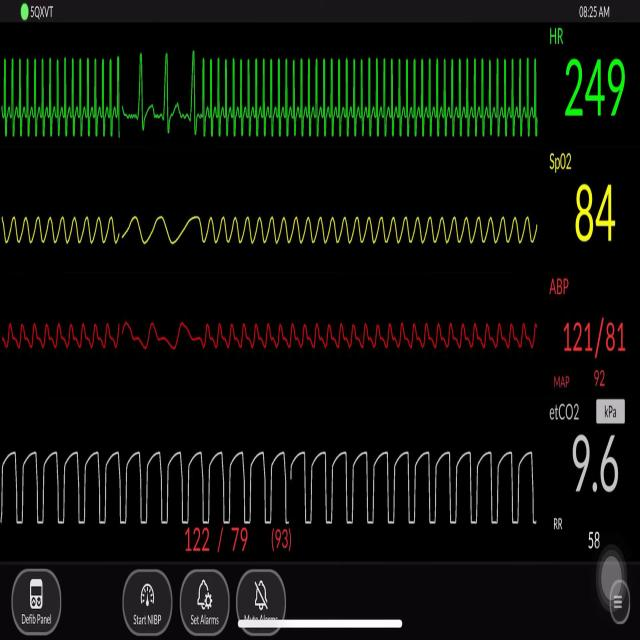danger: (200, 47, 546, 148), (3, 43, 125, 148)
